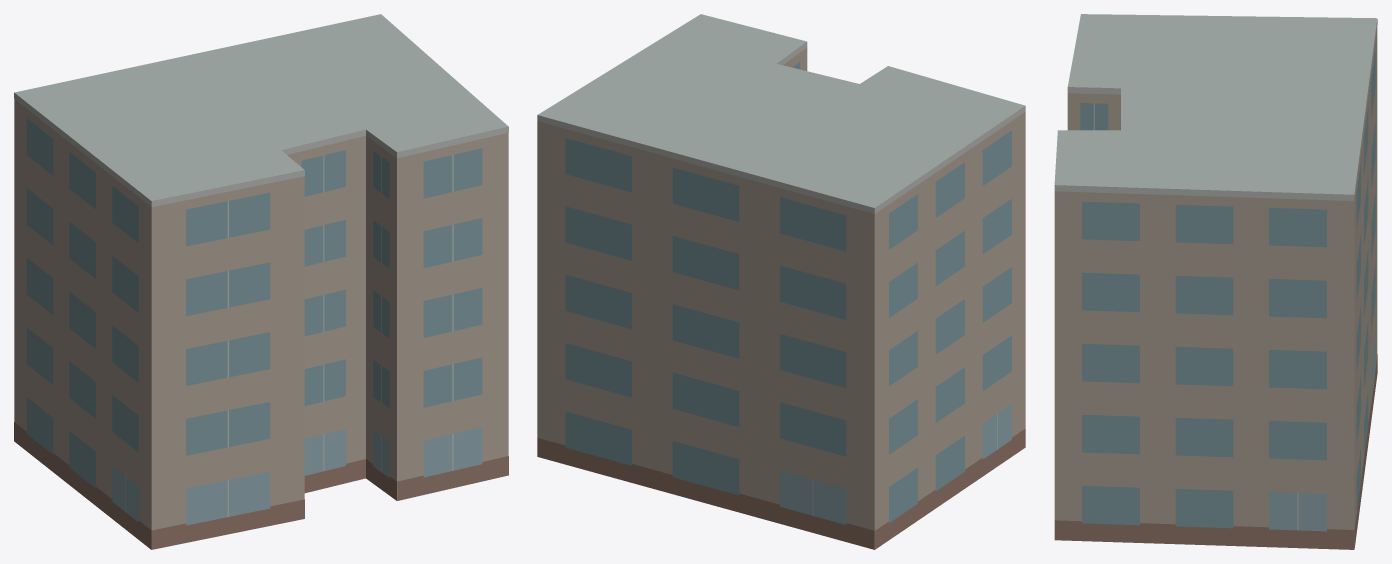
Rendered from survey-upis-32819418.glb.
3 views of the same model, side by side, from view 1: azimuth 30°, elevation 25°; view 2: azimuth 150°, elevation 25°; view 3: azimuth 270°, elevation 25° (orthographic). The views are drawn at different scales.
Parts seen in each view (by area): view 1: survey-upis-32819418.tmp; view 2: survey-upis-32819418.tmp; view 3: survey-upis-32819418.tmp.
Part boxes in pixels (box(x1,y1,x2,y2)): survey-upis-32819418.tmp: box(14, 14, 508, 549); survey-upis-32819418.tmp: box(537, 14, 1025, 549); survey-upis-32819418.tmp: box(1054, 14, 1377, 549).
Size of the model in its own units: 15.24 by 13.95 by 11.51.
